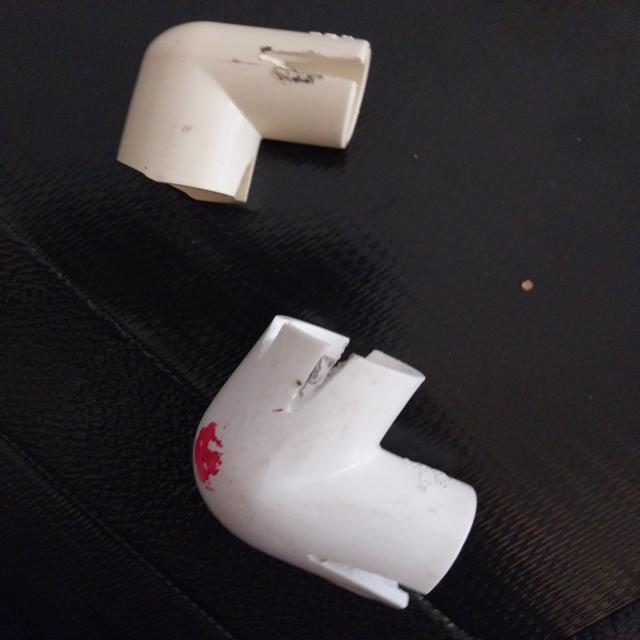Defective: (308, 549, 436, 609), (220, 132, 312, 211), (260, 35, 368, 97), (298, 333, 364, 402), (228, 134, 269, 207), (194, 422, 233, 494)
L Joint: (190, 317, 480, 625), (110, 21, 372, 209)
